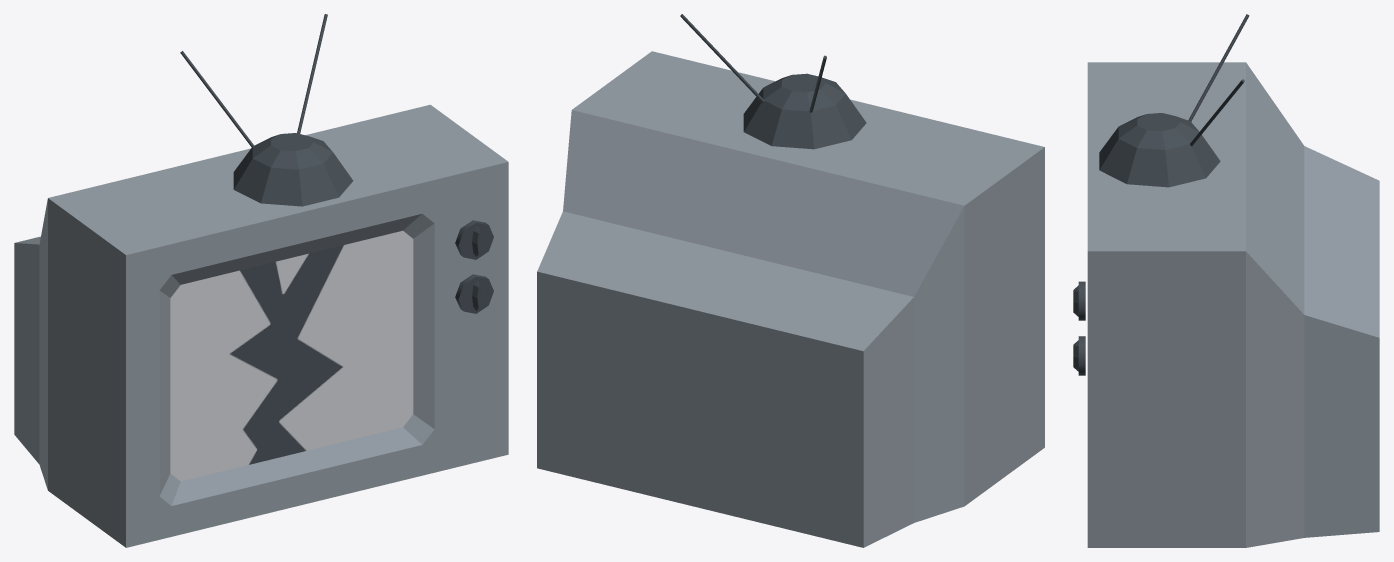
Rendered from Broken TV.FBX.
3 views of the same model, side by side, from view 1: azimuth 30°, elevation 25°; view 2: azimuth 150°, elevation 25°; view 3: azimuth 270°, elevation 25° (orthographic). The views are drawn at different scales.
Visible parts, largest first — view 1: Box001, Cylinder004; view 2: Box001, Cylinder004; view 3: Box001, Cylinder004.
Part boxes in pixels (<box>): Box001: <box>14,104,508,547</box>; Cylinder004: <box>180,14,353,206</box>; Box001: <box>537,51,1044,547</box>; Cylinder004: <box>680,14,866,149</box>; Box001: <box>1073,62,1379,547</box>; Cylinder004: <box>1099,14,1249,187</box>.
Size of the model in its own units: 150 by 153 by 102.
